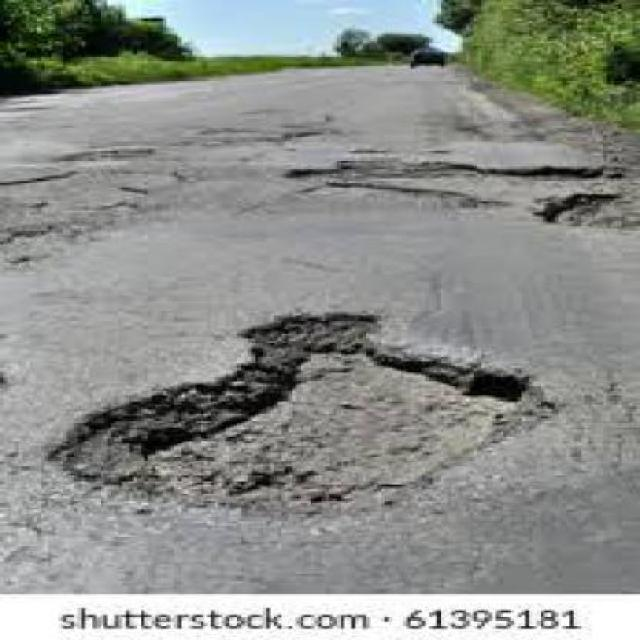pothole: (37, 304, 558, 519), (521, 185, 637, 233)
